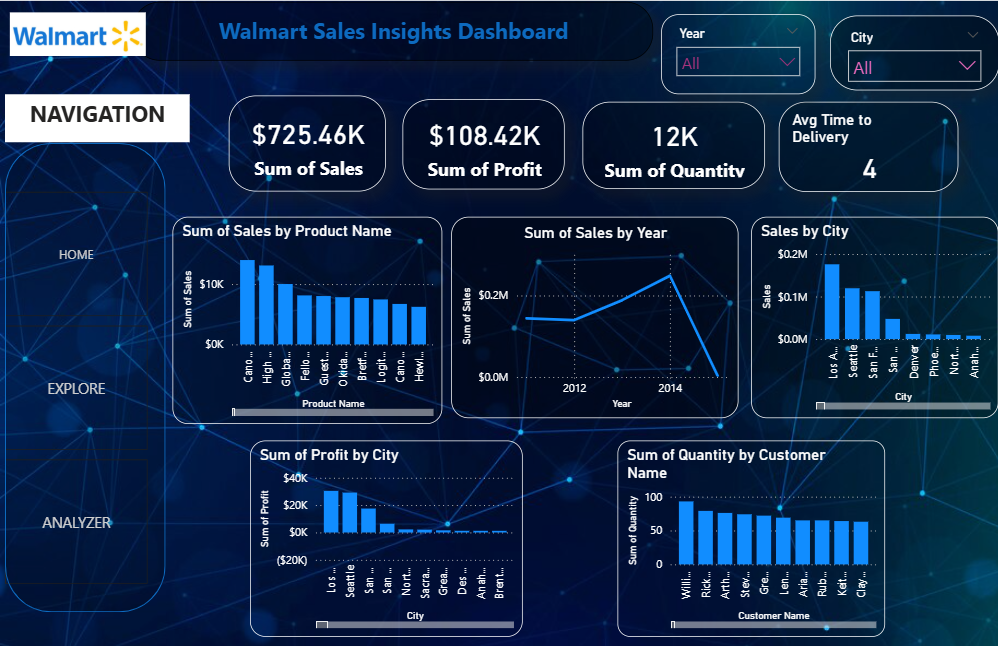

This screenshot's page, from the dashboard's own definition file:
{"tool":"powerbi","page":{"name":"HOME","canvas":[1280,720],"ordinal":0},"visuals":[{"type":"card","fields":{"Values":["Walmart.Sales"]},"box":[432.8,112.7,173.1,105.8],"z":0},{"type":"card","fields":{"Values":["Walmart.Profit"]},"box":[623.8,116.8,178.6,98.9],"z":1000},{"type":"card","fields":{"Values":["Walmart.Quantity"]},"box":[823,119.5,200.6,96.2],"z":2000},{"type":"card","title":"Avg Time to Delivery","fields":{"Values":["Walmart.Delivery Date"]},"box":[1038.7,119.5,197.9,98.9],"z":3000},{"type":"textbox","title":"Walmart Sales Insights Dashboard","box":[327.6,9.4,572.9,64.7],"z":4000},{"type":"slicer","fields":{"Values":["Walmart.City"]},"box":[1094.5,24.3,186,82.2],"z":5000},{"type":"image","box":[168.5,16.2,195.5,58],"z":6000},{"type":"pageNavigator","box":[187.4,218.4,157.7,431.3],"z":7000},{"type":"textbox","box":[187.4,111.9,203.5,52.6],"z":8000},{"type":"shape","box":[187.4,164.4,176.6,516.3],"z":9000},{"type":"columnChart","fields":{"Category":["Walmart.Product Name"],"Y":["Walmart.Sales"]},"box":[371,245.9,296.8,228.1],"z":10000},{"type":"lineChart","fields":{"Category":["Walmart.Ship Date.Variation.Date Hierarchy.Year","Walmart.Ship Date.Variation.Date Hierarchy.Quarter","Walmart.Ship Date.Variation.Date Hierarchy.Month","Walmart.Ship Date.Variation.Date Hierarchy.Day"],"Y":["Walmart.Sales"]},"box":[677.4,245.9,316,221.2],"z":11000},{"type":"columnChart","fields":{"Category":["Walmart.City"],"Y":["Walmart.Sales"]},"box":[1008.5,245.9,272,221.2],"z":12000},{"type":"columnChart","fields":{"Category":["Walmart.City"],"Y":["Walmart.Profit"]},"box":[456.6,492.3,299.8,215.9],"z":13000},{"type":"columnChart","fields":{"Category":["Walmart.Customer Name"],"Y":["Walmart.Quantity"]},"box":[860.9,492.3,294.3,215.9],"z":14000},{"type":"slicer","title":"Year","fields":{"Values":["Walmart.Year"]},"box":[908.5,22.9,169.8,87.6],"z":15000},{"type":"esriVisual","box":[169.1,667,8.3,12.4],"z":16000}]}

Visuals, with their boxes on the page's 1280x720 design canvas (x1, y1, x2, y2). These are canvas units, not pixel positions in the 998x646 screenshot, which may show the page scaled, cropped or inside an application window:
card - Walmart.Sales: rect(433, 113, 606, 218)
card - Walmart.Profit: rect(624, 117, 802, 216)
card - Walmart.Quantity: rect(823, 120, 1024, 216)
"Avg Time to Delivery" card: rect(1039, 120, 1237, 218)
"Walmart Sales Insights Dashboard" textbox: rect(328, 9, 900, 74)
slicer - Walmart.City: rect(1094, 24, 1280, 106)
image: rect(168, 16, 364, 74)
pageNavigator: rect(187, 218, 345, 650)
textbox: rect(187, 112, 391, 164)
shape: rect(187, 164, 364, 681)
columnChart - Walmart.Product Name x Walmart.Sales: rect(371, 246, 668, 474)
lineChart - Walmart.Ship Date.Variation.Date Hierarchy.Year x Walmart.Ship Date.Variation.Date Hierarchy.Quarter: rect(677, 246, 993, 467)
columnChart - Walmart.City x Walmart.Sales: rect(1008, 246, 1280, 467)
columnChart - Walmart.City x Walmart.Profit: rect(457, 492, 756, 708)
columnChart - Walmart.Customer Name x Walmart.Quantity: rect(861, 492, 1155, 708)
"Year" slicer: rect(908, 23, 1078, 110)
esriVisual: rect(169, 667, 177, 679)
